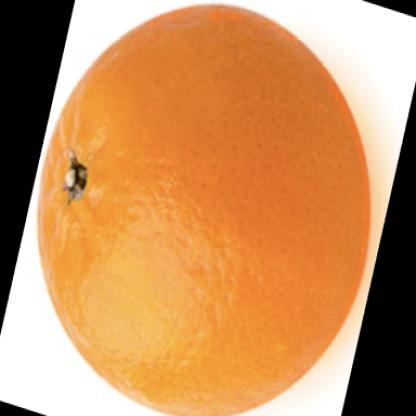orange: (35, 1, 374, 413)
